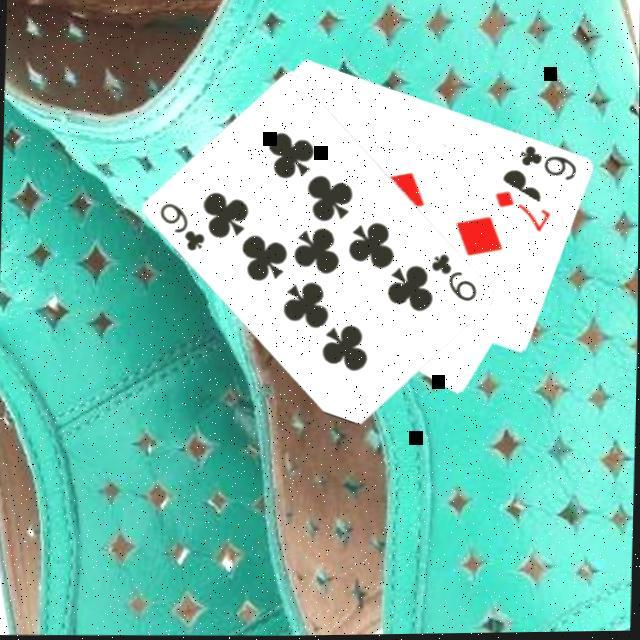6C: (517, 143, 582, 187)
7D: (492, 188, 555, 238)
9C: (427, 251, 482, 307), (157, 200, 210, 256)
